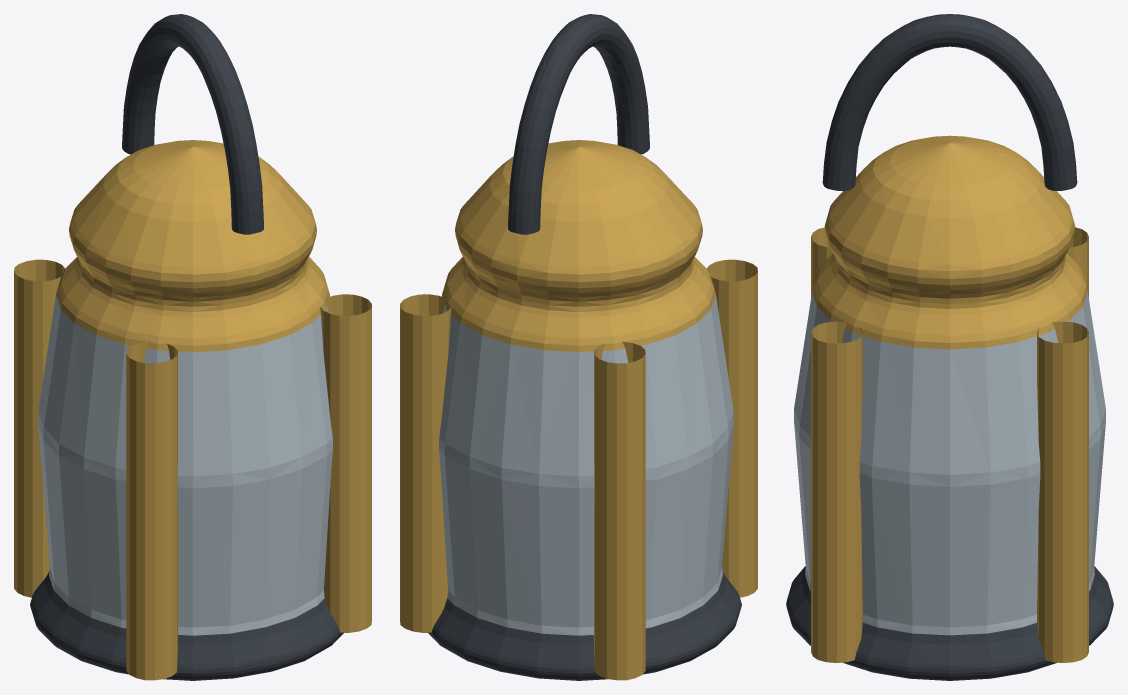
The model's file is PropLantern.obj.
The picture shows the model from 3 angles, left to right: view 1: azimuth 30°, elevation 25°; view 2: azimuth 150°, elevation 25°; view 3: azimuth 270°, elevation 25°; orthographic projection.
Bounding box in the file's own units: 0.502 × 1.02 × 0.502.
